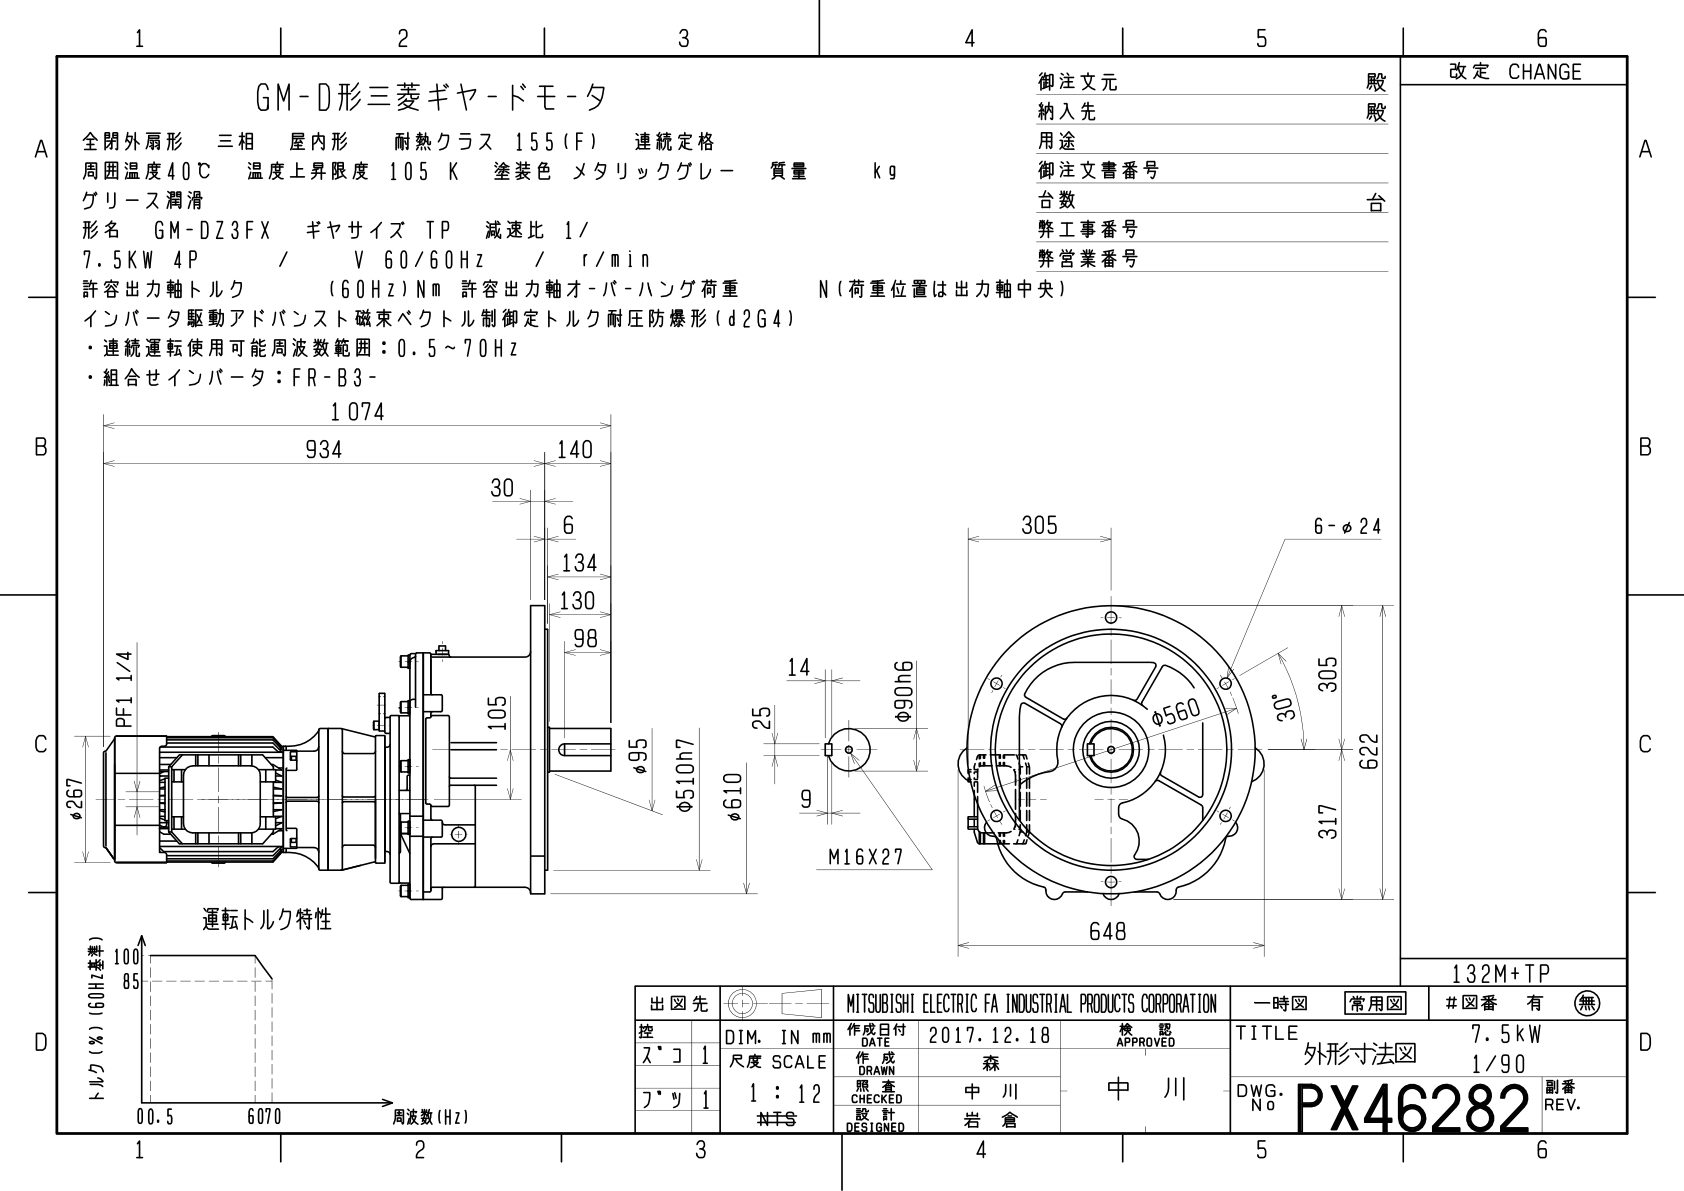GM_D_制御屋内_三相_フランジ: (8, 9, 1684, 1191)
